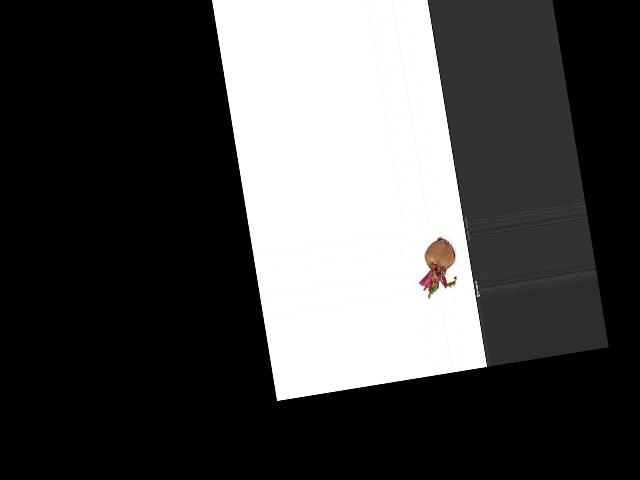beet: (412, 235, 461, 299)
